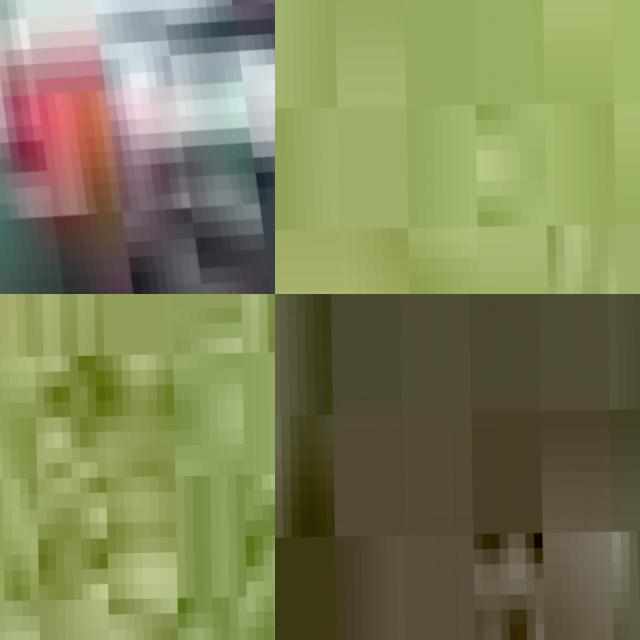drone: (0, 0, 275, 294)
